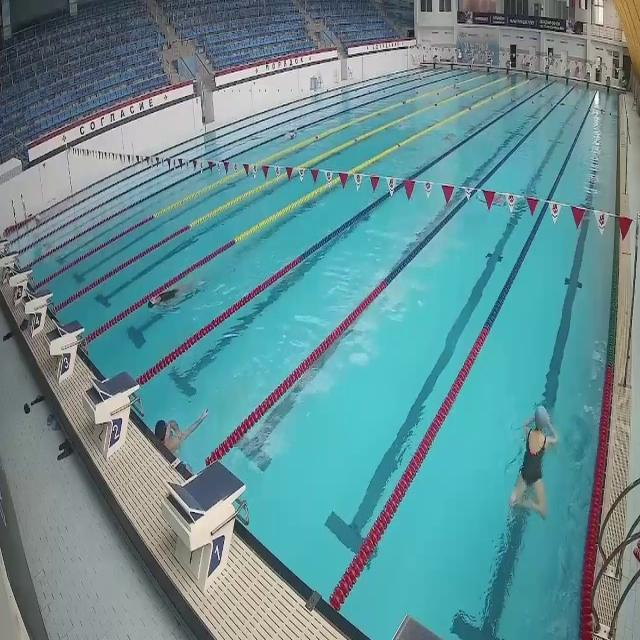Swimming: (507, 405, 562, 520), (148, 280, 199, 308)
